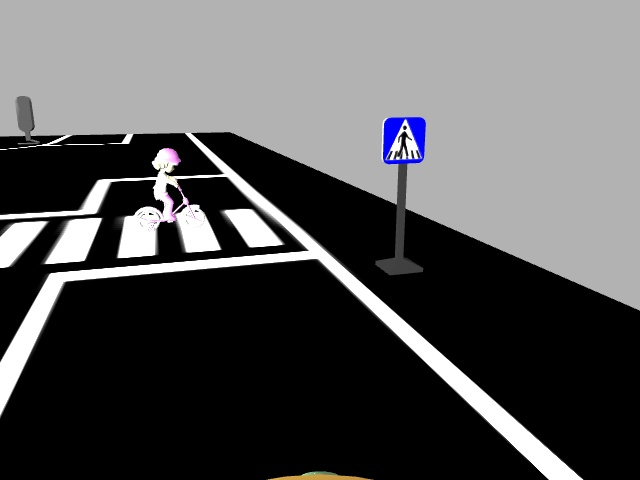Crosswalk: (378, 111, 429, 164)
Pedestrian: (135, 146, 212, 229)
